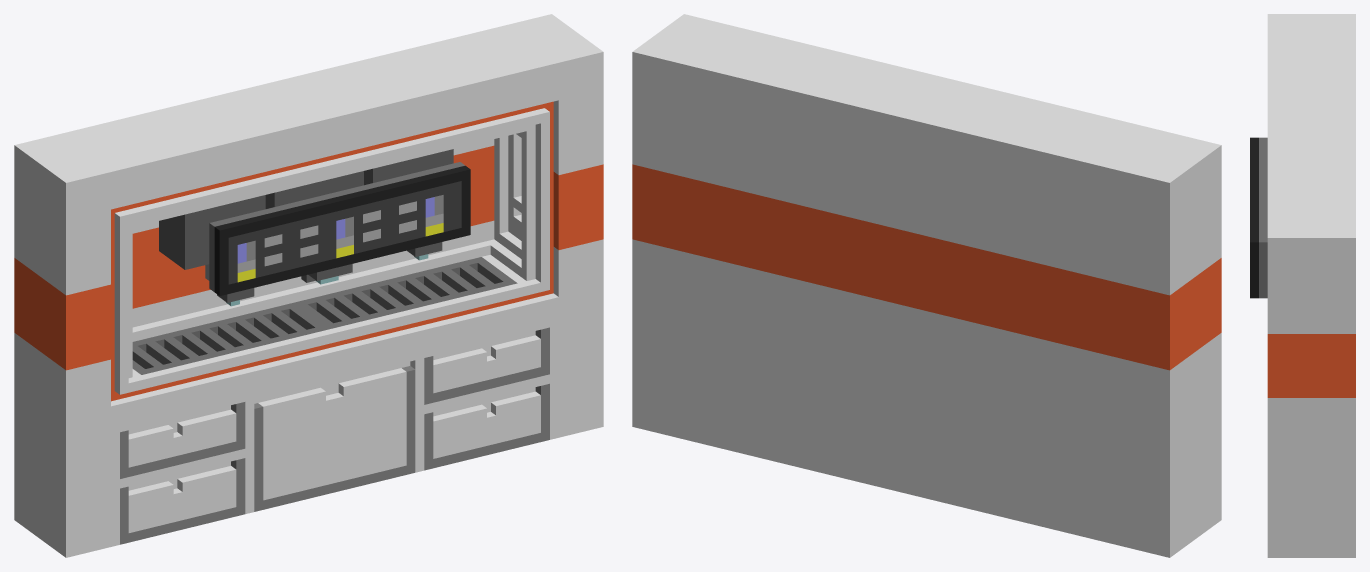
Rendered from Commisary Wall 2.obj.
3 views of the same model, side by side, from view 1: azimuth 30°, elevation 25°; view 2: azimuth 150°, elevation 25°; view 3: azimuth 270°, elevation 25° (orthographic). The views are drawn at different scales.
Bounding box in the file's own units: 60 × 40 × 12.
1 material, 1 textured.
